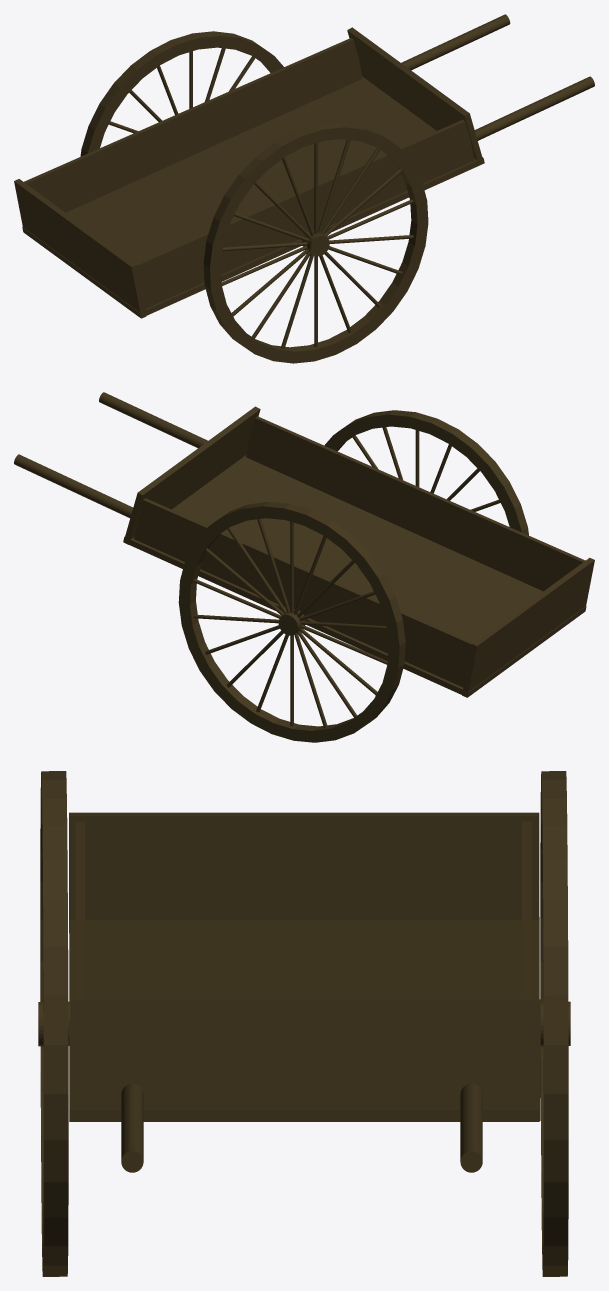
Rendered from szeker.obj.
The picture shows the model from 3 angles, top to bottom: view 1: azimuth 30°, elevation 25°; view 2: azimuth 150°, elevation 25°; view 3: azimuth 270°, elevation 25°; orthographic projection. The views are drawn at different scales.
Parts seen in each view (by area): view 1: kerek.001_Cylinder.009; view 2: kerek.001_Cylinder.009; view 3: kerek.001_Cylinder.009.
Part boxes in pixels (x1,y1,x2,y2): kerek.001_Cylinder.009: [14, 14, 594, 363]; kerek.001_Cylinder.009: [14, 392, 594, 742]; kerek.001_Cylinder.009: [38, 771, 570, 1276].
Size of the model in its own units: 8.91 by 4.1 by 4.3.
